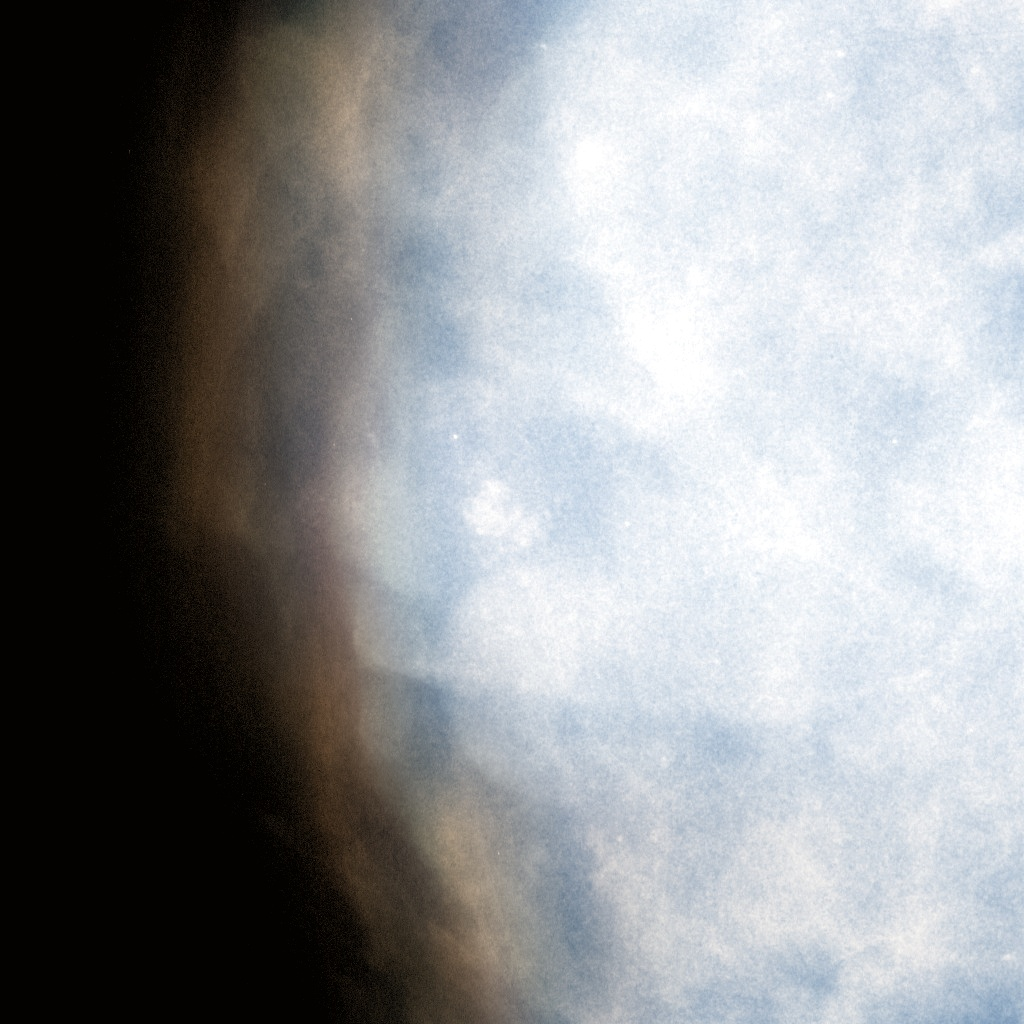tumor: (439, 449, 585, 575)
